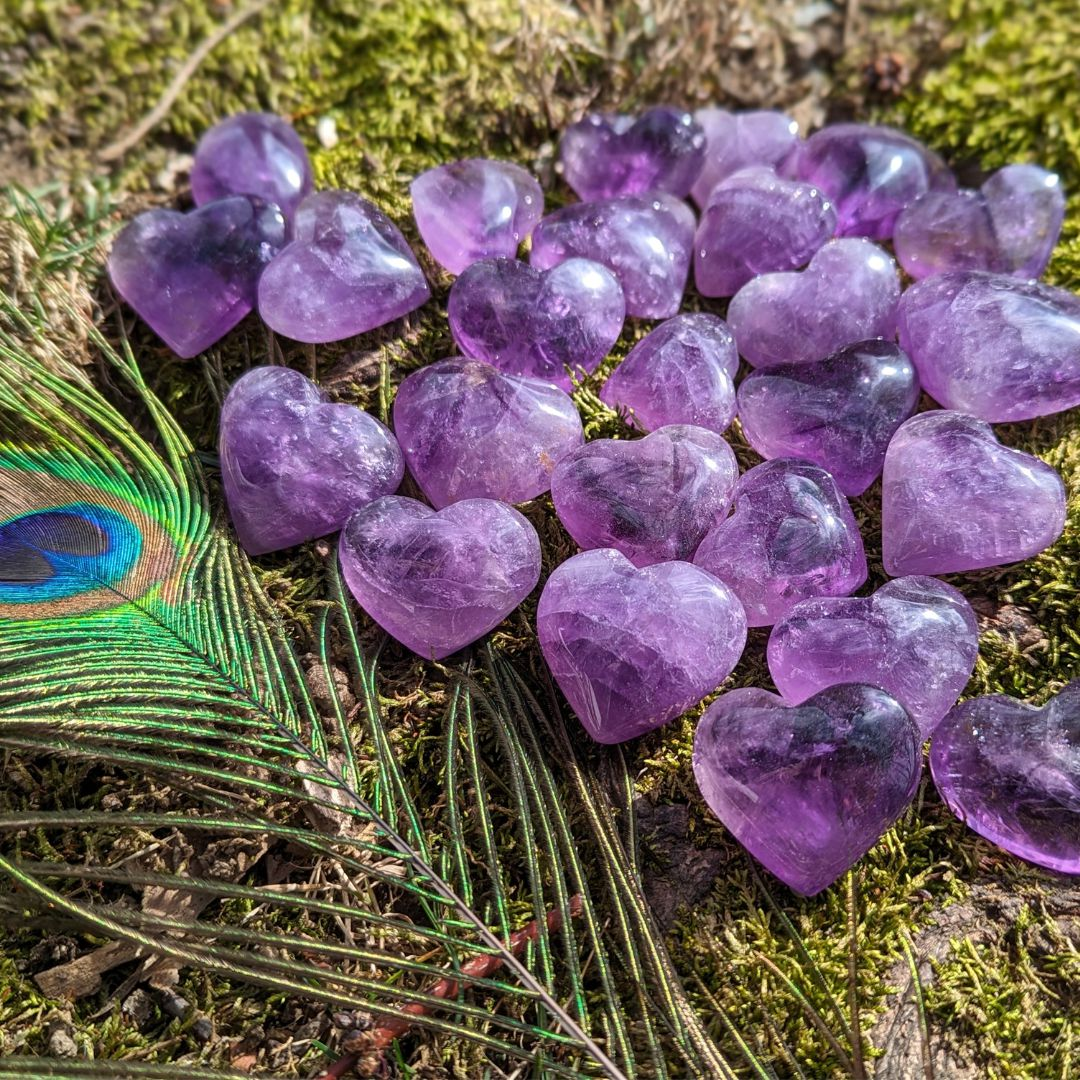Amethyst: (692, 686, 929, 892), (538, 546, 746, 739), (766, 577, 979, 754), (216, 367, 408, 557), (342, 493, 542, 669), (876, 397, 1045, 597), (695, 453, 871, 628), (738, 339, 922, 505), (894, 263, 1080, 420), (935, 680, 1080, 879), (256, 187, 434, 348), (476, 276, 634, 393)
